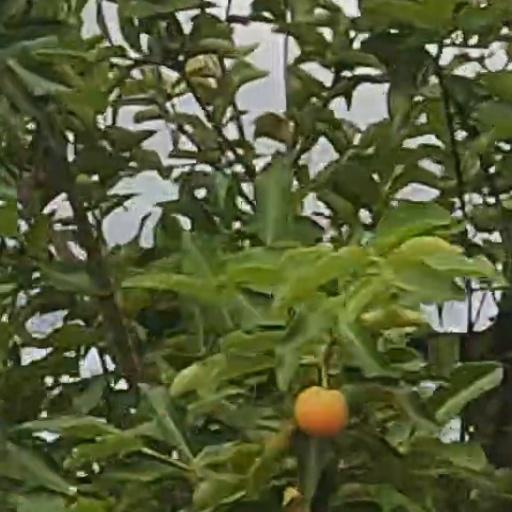acerola: (296, 388, 347, 433)
